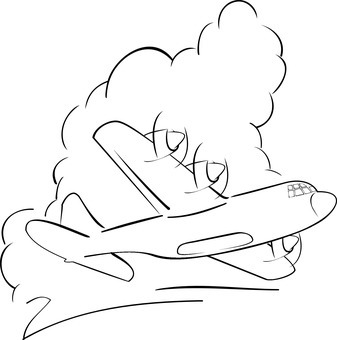aeroplane: (23, 113, 337, 286)
